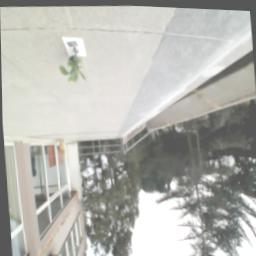herb: (59, 52, 86, 85)
